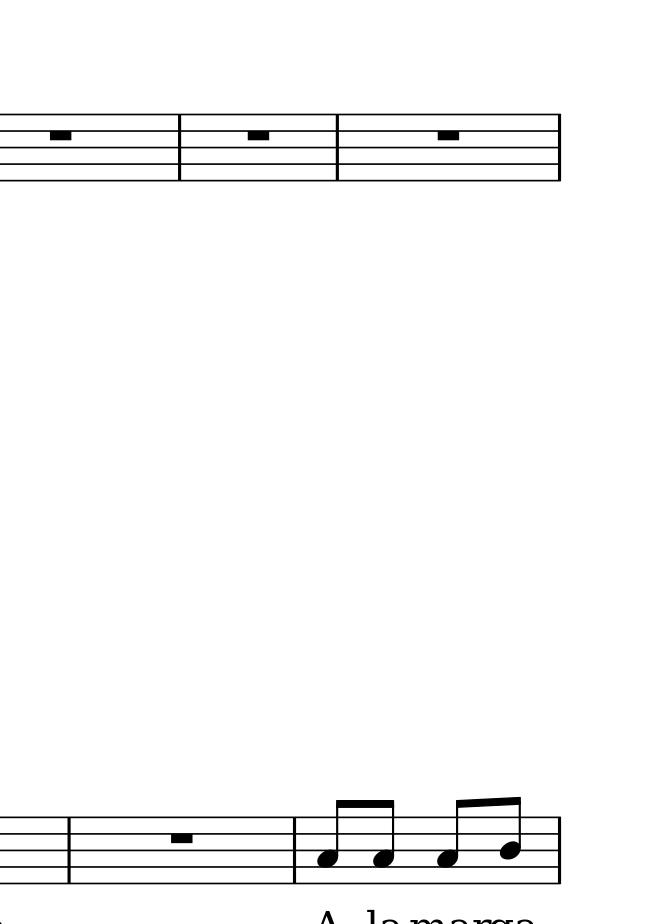8_3: (432, 796, 474, 886), (316, 797, 354, 886), (371, 796, 397, 886)
8_4: (496, 794, 525, 888)
Rests1: (434, 127, 465, 148), (44, 127, 77, 145), (243, 127, 274, 146)
Single_barline: (285, 813, 303, 882), (329, 113, 346, 183), (172, 113, 188, 184), (551, 818, 567, 883), (551, 111, 565, 185), (62, 815, 77, 882)
